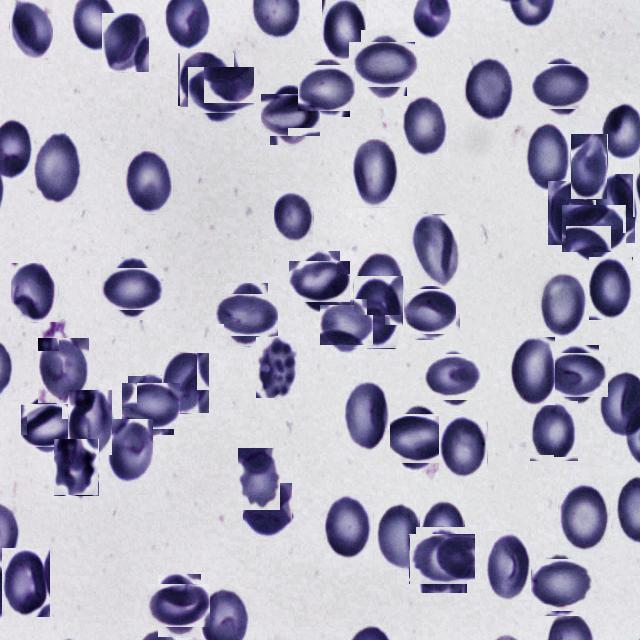red blood cell: (350, 276, 402, 349), (34, 129, 82, 206), (558, 482, 611, 551), (410, 214, 459, 286), (38, 338, 90, 404), (388, 409, 446, 468), (343, 379, 390, 451), (355, 36, 413, 94), (412, 530, 470, 588), (324, 494, 374, 561), (2, 548, 50, 617), (376, 502, 424, 571), (439, 412, 488, 479), (506, 337, 554, 405), (193, 61, 250, 118), (534, 556, 590, 614), (463, 57, 513, 121), (485, 531, 531, 600), (524, 122, 570, 191), (353, 139, 399, 208), (539, 271, 587, 337), (354, 252, 404, 315), (566, 200, 622, 256), (125, 151, 173, 215), (548, 181, 596, 245), (418, 500, 464, 566), (530, 401, 579, 462), (428, 349, 482, 404), (594, 174, 636, 244), (162, 353, 210, 414), (550, 348, 604, 402), (179, 52, 233, 106), (402, 96, 448, 159), (102, 13, 150, 73), (68, 390, 112, 455), (108, 419, 153, 482), (11, 263, 58, 323), (589, 257, 633, 321), (105, 262, 158, 315), (153, 579, 206, 632), (221, 288, 273, 341), (125, 379, 177, 432), (243, 483, 292, 539), (535, 61, 587, 113), (301, 62, 353, 114), (238, 448, 280, 510), (406, 286, 458, 336), (322, 0, 366, 59), (10, 0, 54, 59), (54, 439, 99, 496), (256, 337, 298, 398), (294, 256, 344, 307), (23, 400, 73, 450), (266, 90, 316, 140), (571, 134, 608, 200), (323, 302, 370, 349), (274, 190, 314, 243)
